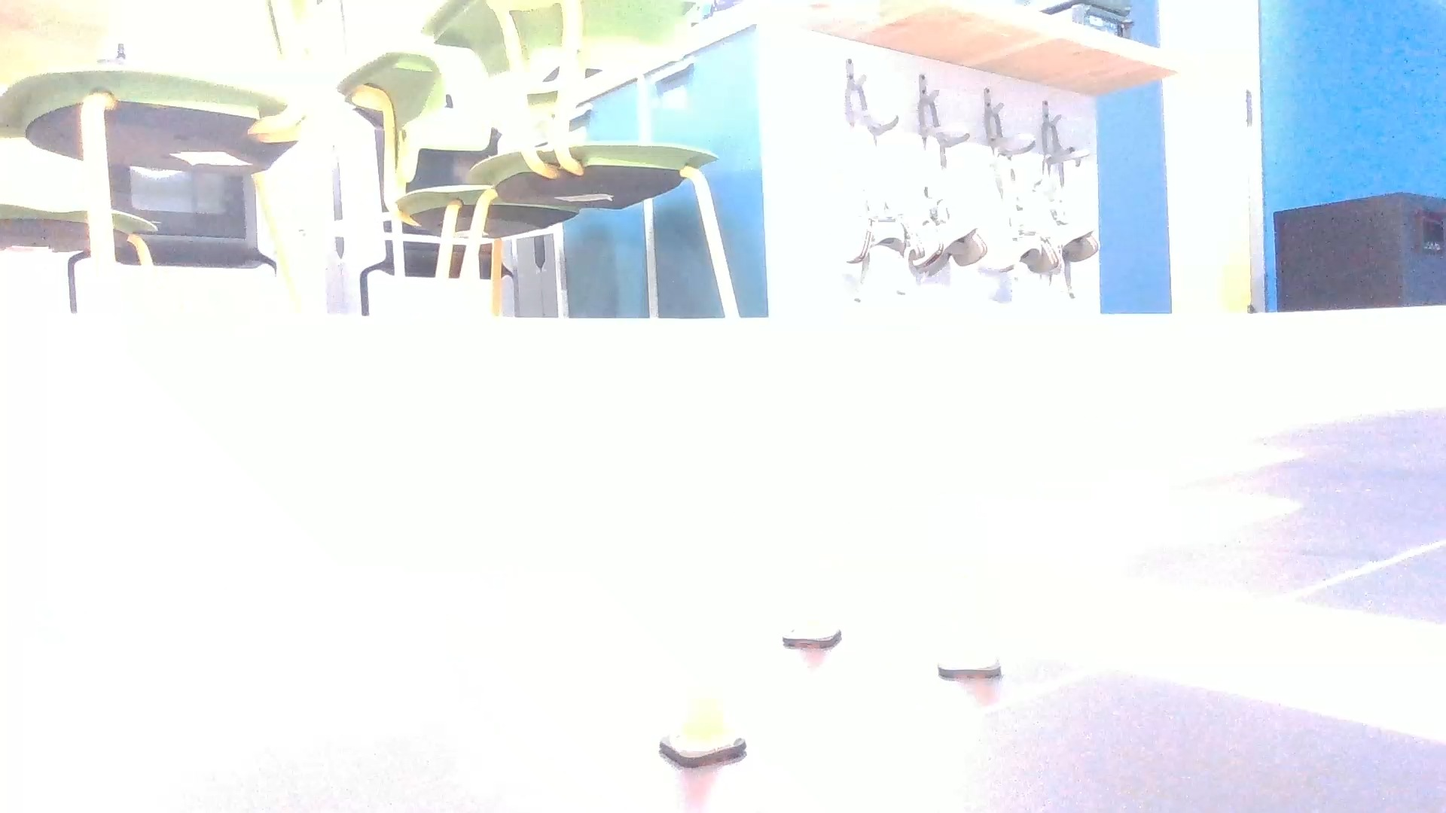Traffic Cone: (660, 699, 745, 767), (938, 653, 1001, 679), (782, 622, 842, 649)
